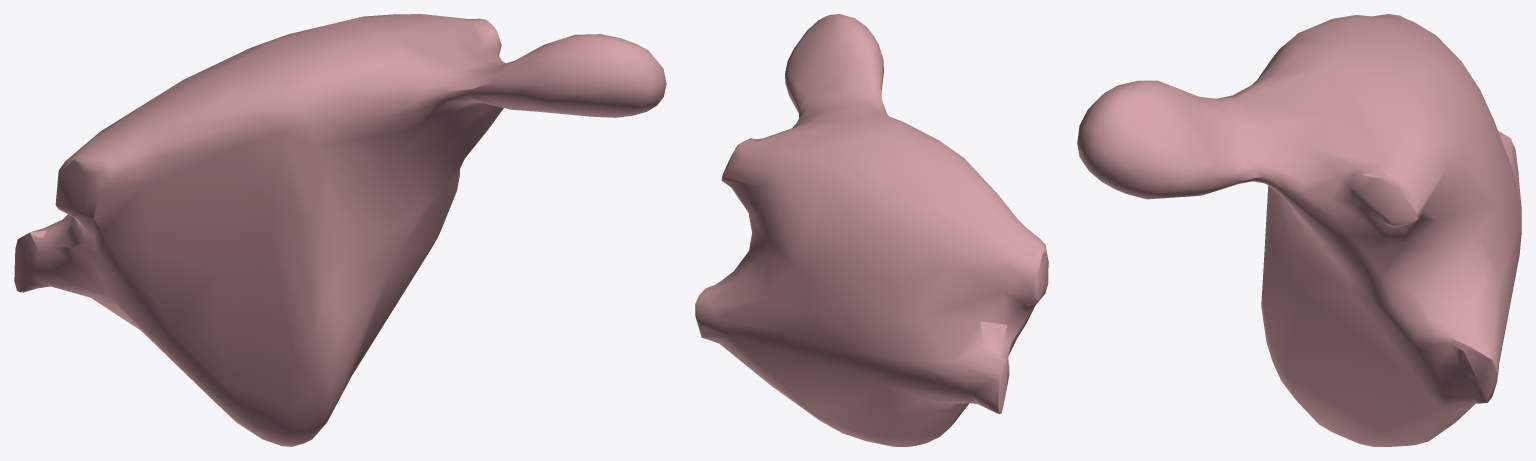
File: fma9465_fj2425.glb
3 views of the same model, side by side, from view 1: azimuth 30°, elevation 25°; view 2: azimuth 150°, elevation 25°; view 3: azimuth 270°, elevation 25° (orthographic). The views are drawn at different scales.
Parts seen in each view (by area): view 1: FMA9465_FJ2425; view 2: FMA9465_FJ2425; view 3: FMA9465_FJ2425.
Part boxes in pixels (x1,y1,x2,y2): FMA9465_FJ2425: [14, 14, 666, 446]; FMA9465_FJ2425: [695, 14, 1048, 446]; FMA9465_FJ2425: [1077, 14, 1521, 446].
Bounding box in the file's own units: 0.0687 × 0.0618 × 0.0558.
